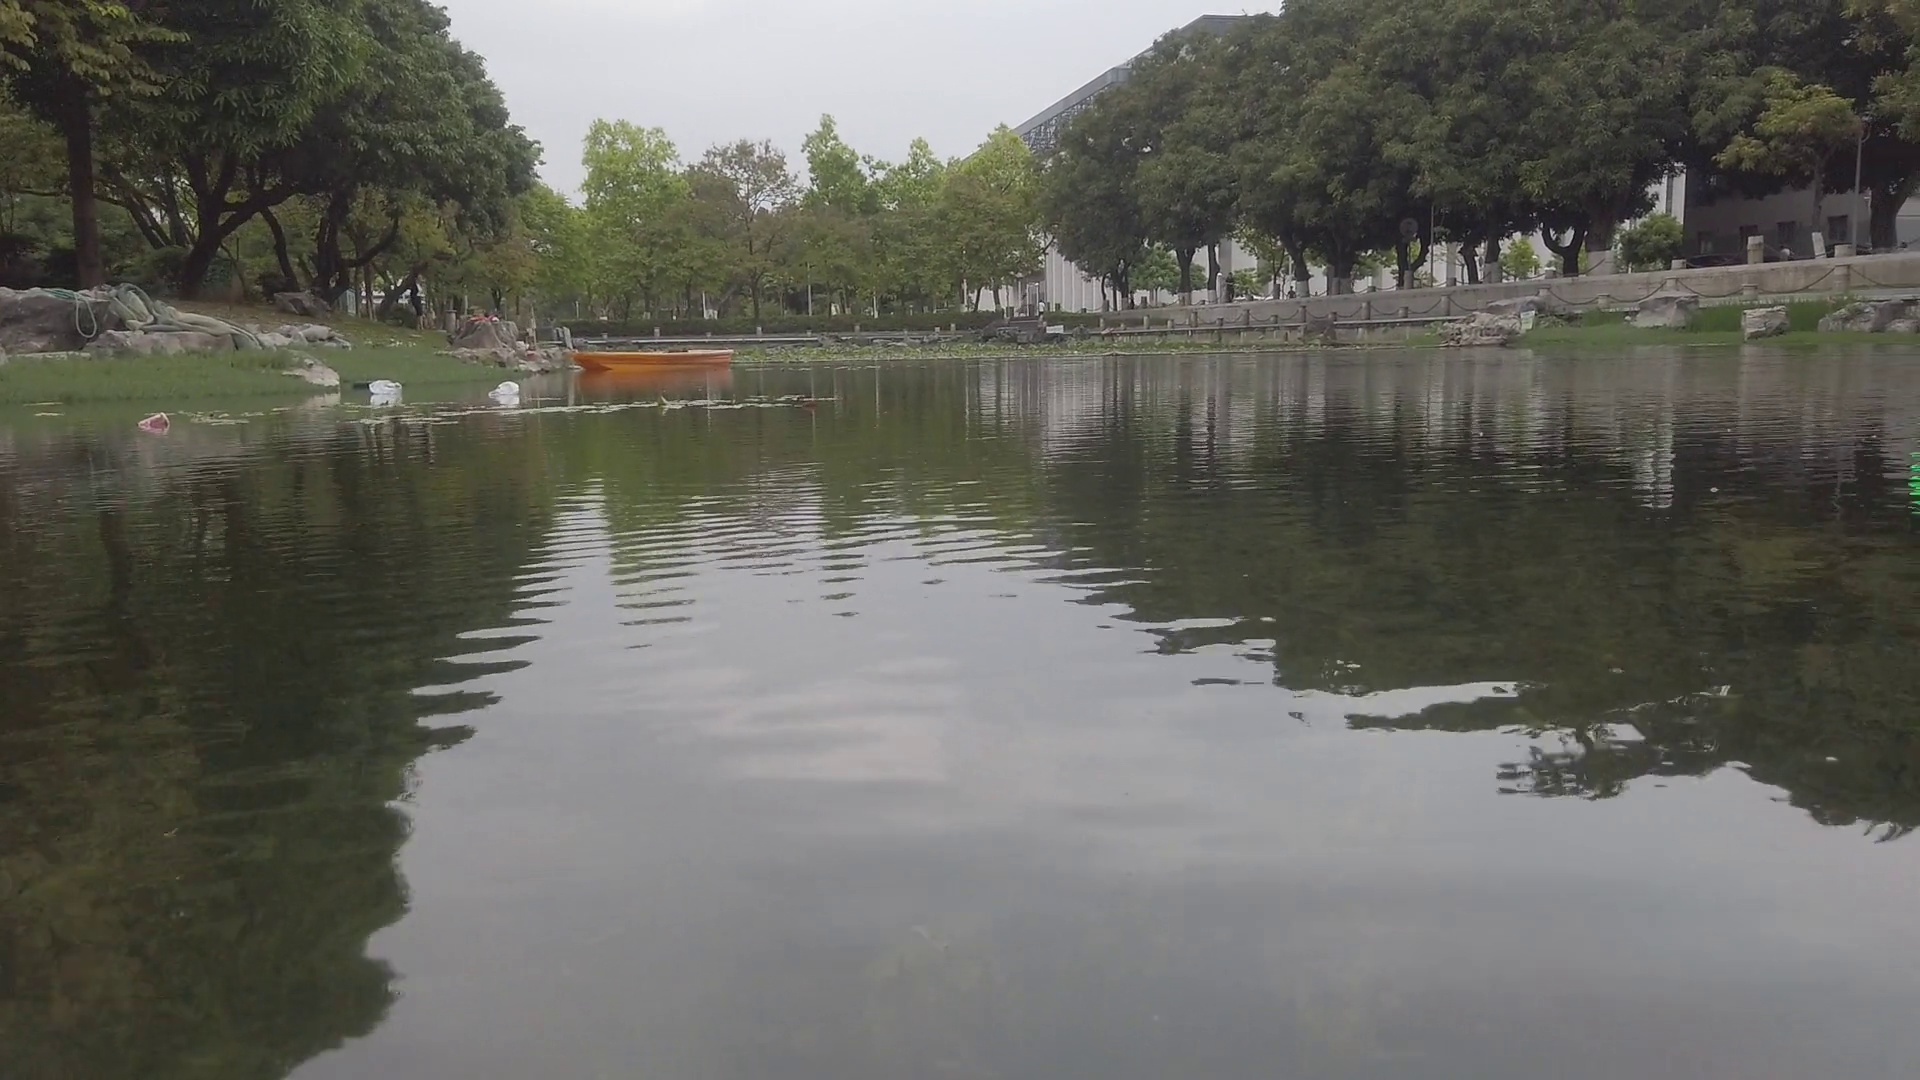bottle: (137, 413, 171, 430)
plastic: (367, 378, 405, 392), (493, 380, 518, 398)
